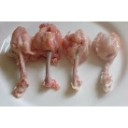chicken_lollipop: (90, 27, 125, 93), (33, 23, 65, 95), (8, 27, 32, 97), (65, 27, 90, 93)
